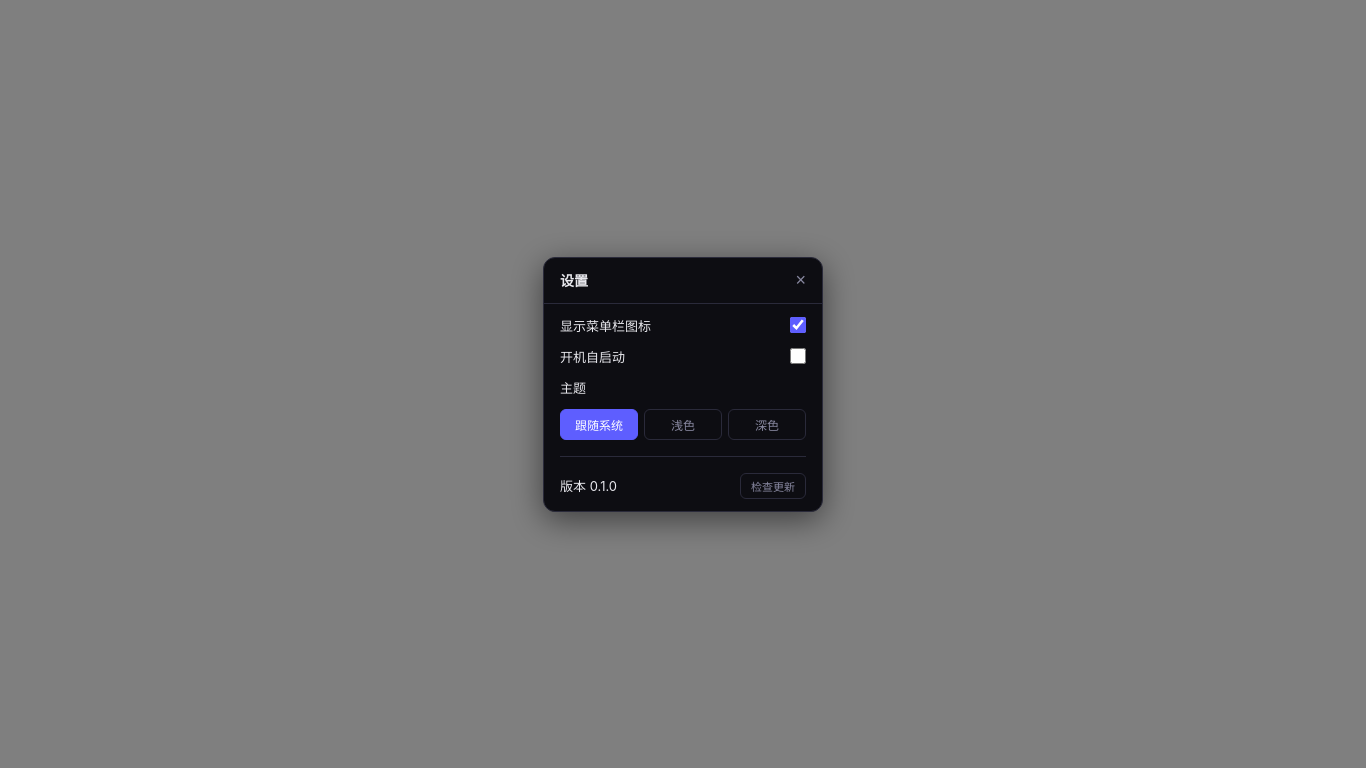
Test: SettingsPanel › shows update status after check
Click the button "检查更新" at (773, 486), box left=740, top=472, right=806, bottom=498
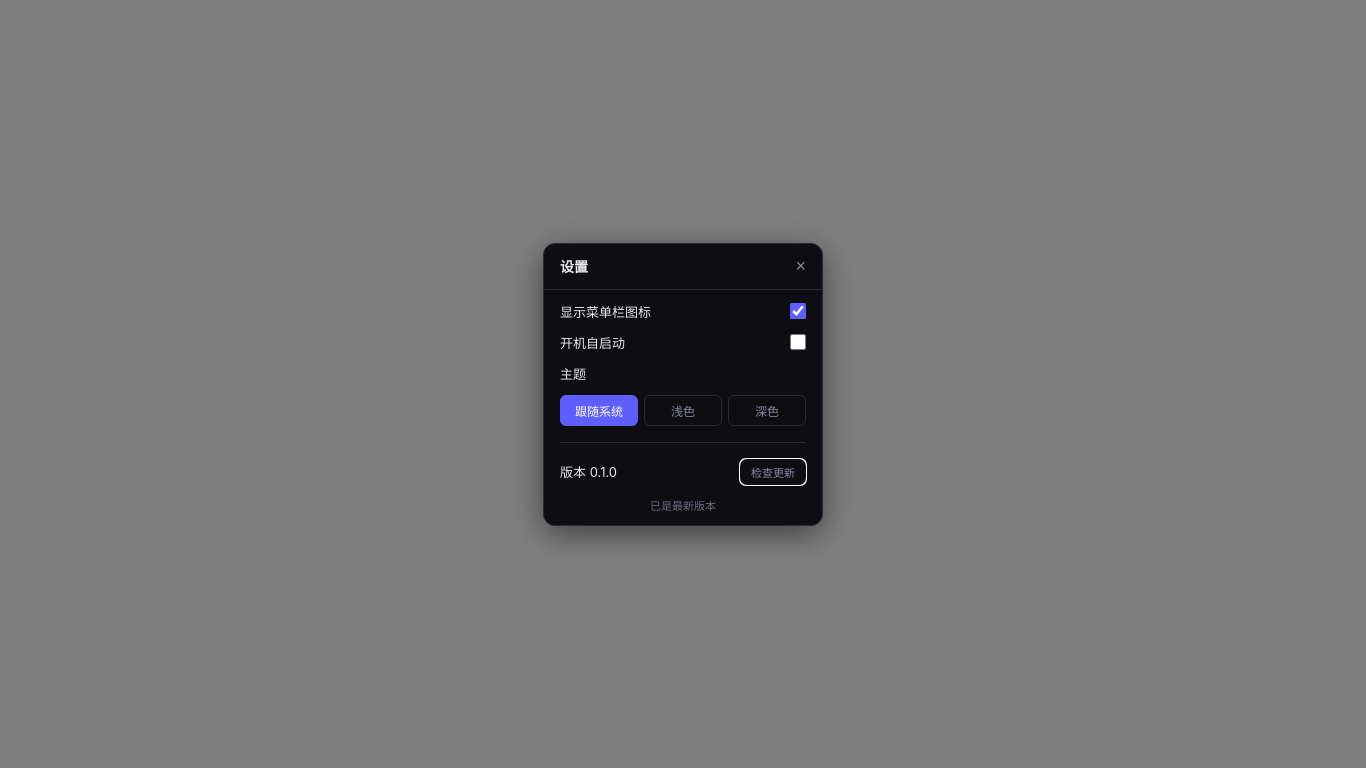
Expected: the text "已是最新版本" is shown, left=650, top=498, right=716, bottom=512
